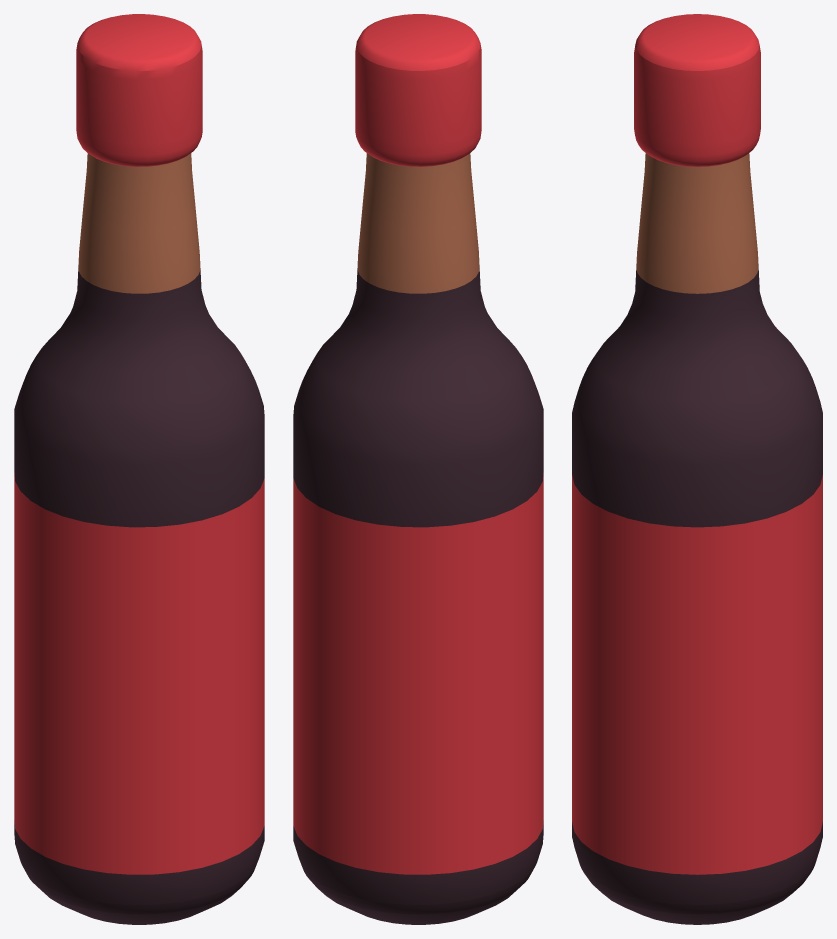
Rendered from SoySauce.fbx.
3 views of the same model, side by side, from view 1: azimuth 30°, elevation 25°; view 2: azimuth 150°, elevation 25°; view 3: azimuth 270°, elevation 25° (orthographic).
Visible parts, largest first — view 1: Cylinder.003; view 2: Cylinder.003; view 3: Cylinder.003.
Part boxes in pixels (left/top/right/bottom): Cylinder.003: left=14, top=14, right=264, bottom=924; Cylinder.003: left=293, top=14, right=543, bottom=924; Cylinder.003: left=572, top=14, right=822, bottom=924.
Bounding box in the file's own units: 109 × 409 × 109.
